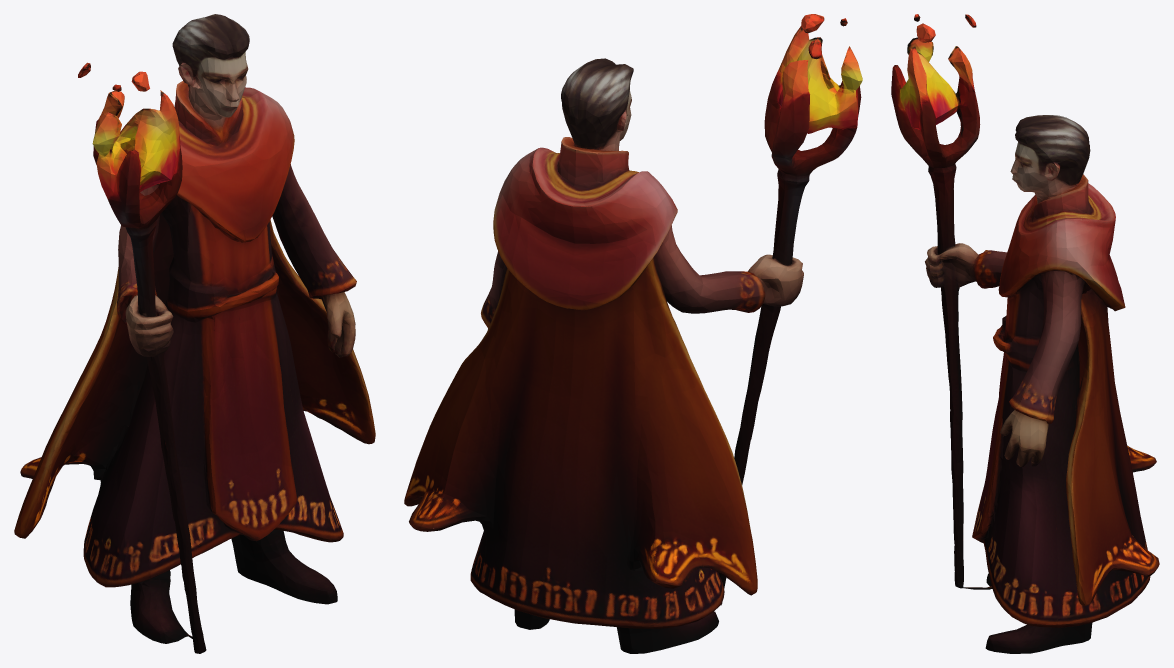
File: Unit-13.glb
3 renders of one model, left to right at view 1: azimuth 30°, elevation 25°; view 2: azimuth 150°, elevation 25°; view 3: azimuth 270°, elevation 25°, orthographic. The views are drawn at different scales.
Visible parts, largest first — view 1: world; view 2: world; view 3: world.
Part boxes in pixels (x1,y1,x2,y2): world: [14, 14, 375, 653]; world: [404, 14, 862, 653]; world: [891, 14, 1159, 653].
Bounding box in the file's own units: 0.6451 × 1 × 0.4617.
1 material, 1 textured.
